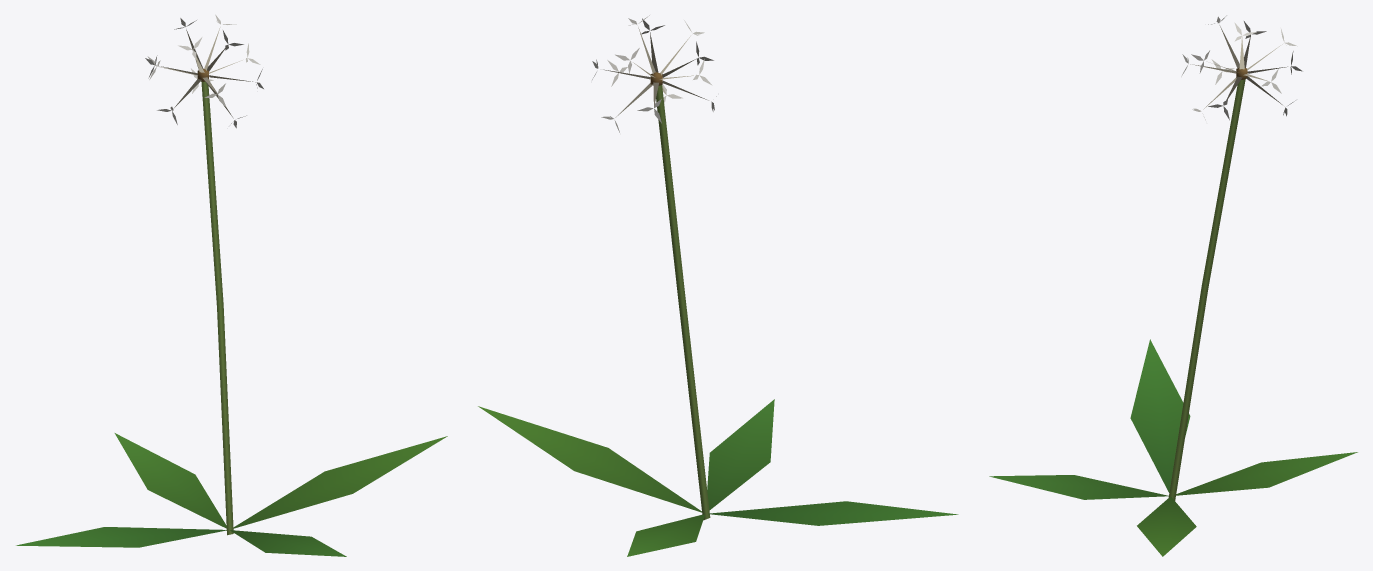
File: dandelion-seedhead-a.lod2.glb
The picture shows the model from 3 angles, left to right: view 1: azimuth 30°, elevation 25°; view 2: azimuth 150°, elevation 25°; view 3: azimuth 270°, elevation 25°; orthographic projection. The views are drawn at different scales.
Parts seen in each view (by area): view 1: dandelion-seedhead-a.lod2; view 2: dandelion-seedhead-a.lod2; view 3: dandelion-seedhead-a.lod2.
Part boxes in pixels (<box>): dandelion-seedhead-a.lod2: <box>16,14,447,556</box>; dandelion-seedhead-a.lod2: <box>478,15,958,556</box>; dandelion-seedhead-a.lod2: <box>989,15,1357,556</box>.
Size of the model in its own units: 0.3391 by 0.3576 by 0.2464.
